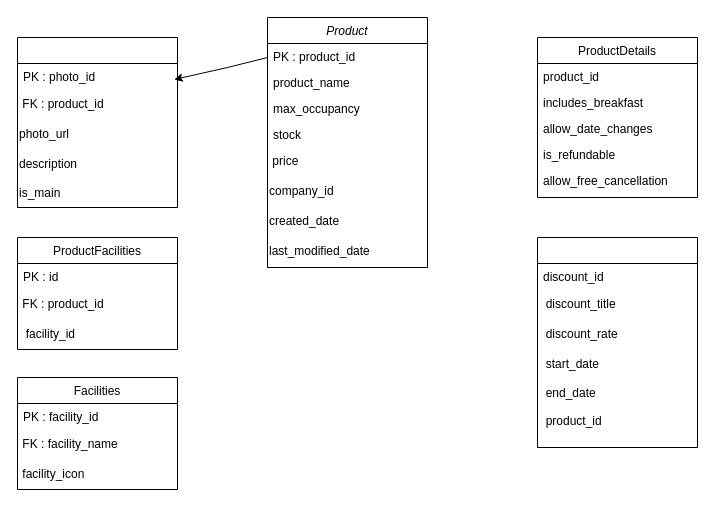
The diagram is 715 pixels wide and 507 high, and some of its shapes have lost their labels. The shapes that lost their labels are listed below. From the top down, each one's box as (x1, y1, x2, y2) in pixels, then its label:
(16, 36, 178, 208): ProductPhotos
(536, 236, 698, 448): ProductDiscount
